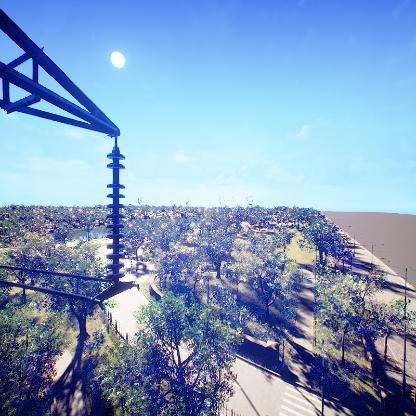insulator: (105, 150, 128, 281)
